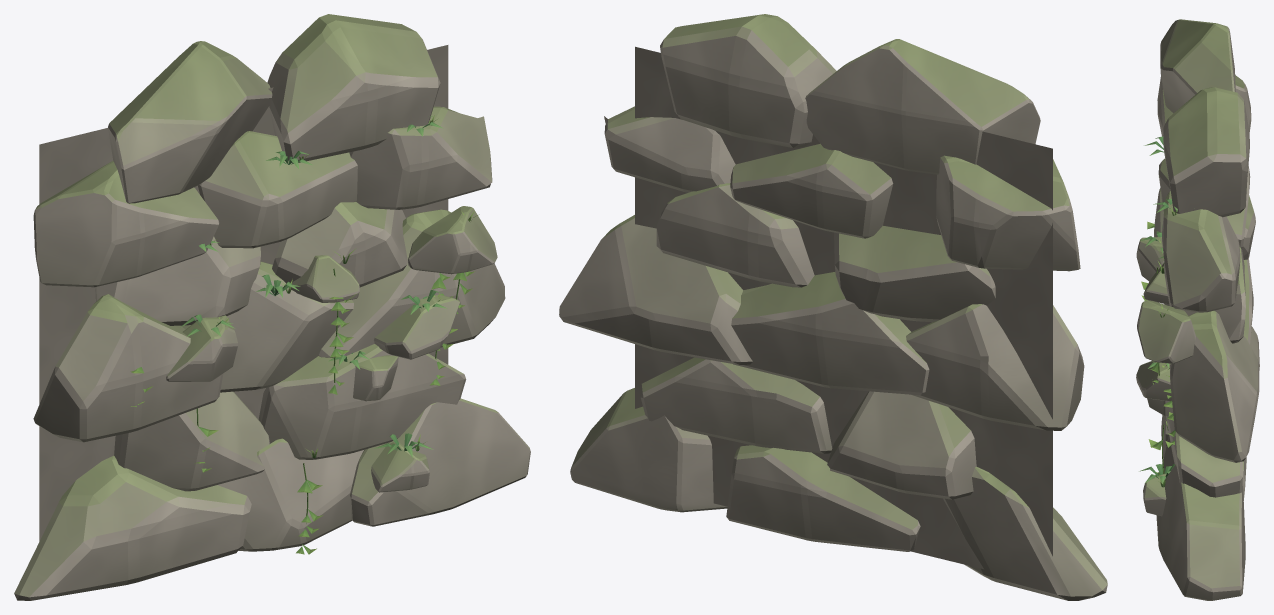
The model's file is cliff_wall.glb.
The picture shows the model from 3 angles, left to right: view 1: azimuth 30°, elevation 25°; view 2: azimuth 150°, elevation 25°; view 3: azimuth 270°, elevation 25°; orthographic projection. The views are drawn at different scales.
Visible parts, largest first — view 1: cliff_wall_rock, cliff_wall_back, cliff_wall_green; view 2: cliff_wall_rock, cliff_wall_back; view 3: cliff_wall_rock, cliff_wall_green.
Part boxes in pixels (bbox=[...]): cliff_wall_rock: bbox=[14, 14, 530, 600]; cliff_wall_back: bbox=[39, 45, 448, 541]; cliff_wall_green: bbox=[130, 115, 479, 554]; cliff_wall_rock: bbox=[559, 14, 1107, 600]; cliff_wall_back: bbox=[635, 46, 1052, 569]; cliff_wall_rock: bbox=[1136, 19, 1259, 600]; cliff_wall_green: bbox=[1139, 136, 1177, 487].
Size of the model in its own units: 14.98 by 14.24 by 3.54.
2 materials, 2 textured.
